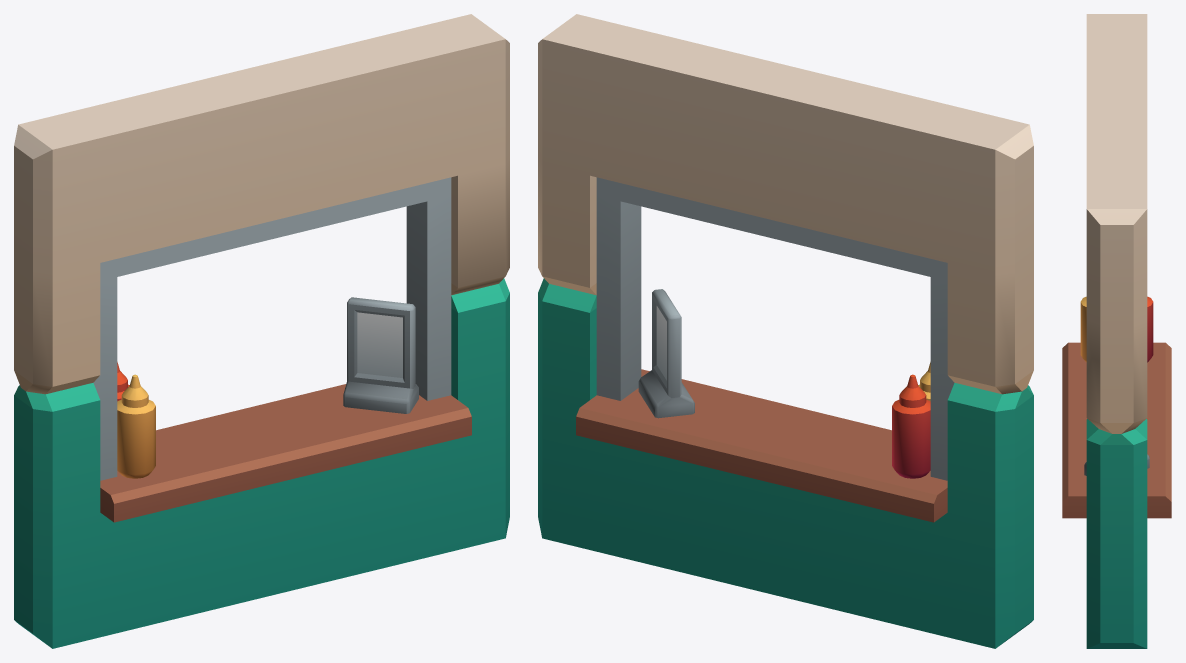
The model's file is wall_orderwindow_decorated.glb.
The picture shows the model from 3 angles, left to right: view 1: azimuth 30°, elevation 25°; view 2: azimuth 150°, elevation 25°; view 3: azimuth 270°, elevation 25°; orthographic projection. The views are drawn at different scales.
Visible parts, largest first — view 1: wall_orderwindow_decorated_Cube.049; view 2: wall_orderwindow_decorated_Cube.049; view 3: wall_orderwindow_decorated_Cube.049.
Boxes of the visible parts, x1,y1,x2,y2 form: wall_orderwindow_decorated_Cube.049: (14, 14, 509, 648); wall_orderwindow_decorated_Cube.049: (538, 14, 1033, 648); wall_orderwindow_decorated_Cube.049: (1062, 14, 1171, 648).
Bounding box in the file's own units: 4 × 4 × 0.9.
1 material, 1 textured.
